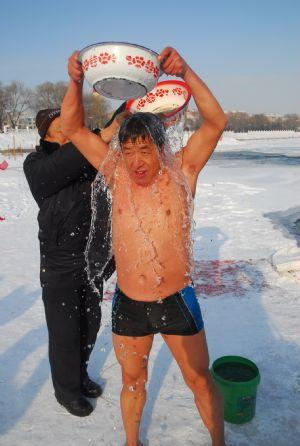person: (61, 45, 226, 443)
